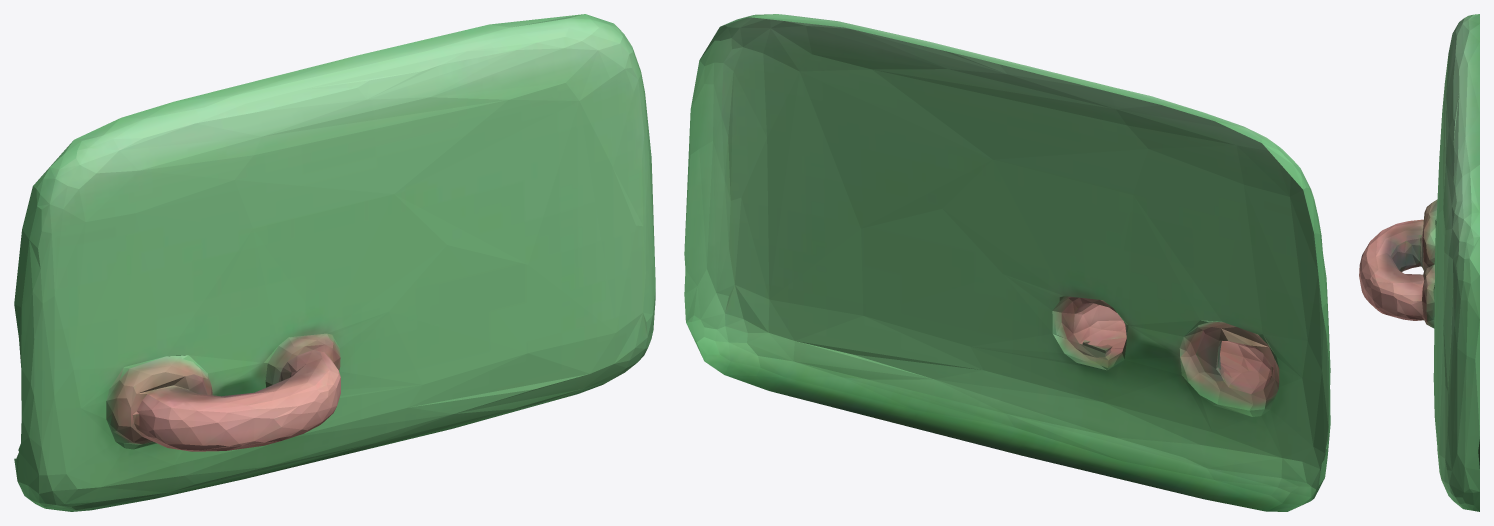
Rendered from freezer_door.glb.
3 renders of one model, left to right at view 1: azimuth 30°, elevation 25°; view 2: azimuth 150°, elevation 25°; view 3: azimuth 270°, elevation 25°, orthographic. The views are drawn at different scales.
Parts seen in each view (by area): view 1: source_surface_0; view 2: source_surface_0; view 3: source_surface_0.
Boxes of the visible parts, box(x1,y1,x2,y2) form: source_surface_0: box(14, 14, 655, 511); source_surface_0: box(684, 14, 1330, 511); source_surface_0: box(1359, 14, 1479, 511).
Size of the model in its own units: 1.33 by 0.7711 by 0.2751.
1 material, 1 textured.
